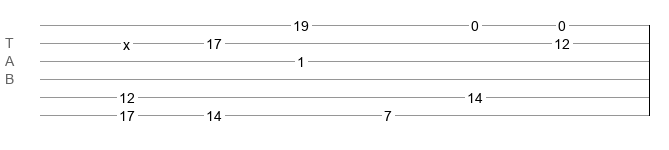0: (471, 18, 479, 28), (558, 18, 566, 28)
1: (297, 54, 305, 64)
12: (119, 90, 135, 100), (554, 36, 570, 46)
14: (206, 108, 222, 118), (467, 90, 483, 100)
17: (119, 108, 135, 118), (206, 36, 222, 46)
19: (293, 18, 309, 28)
7: (384, 108, 392, 118)
x: (123, 37, 130, 45)
